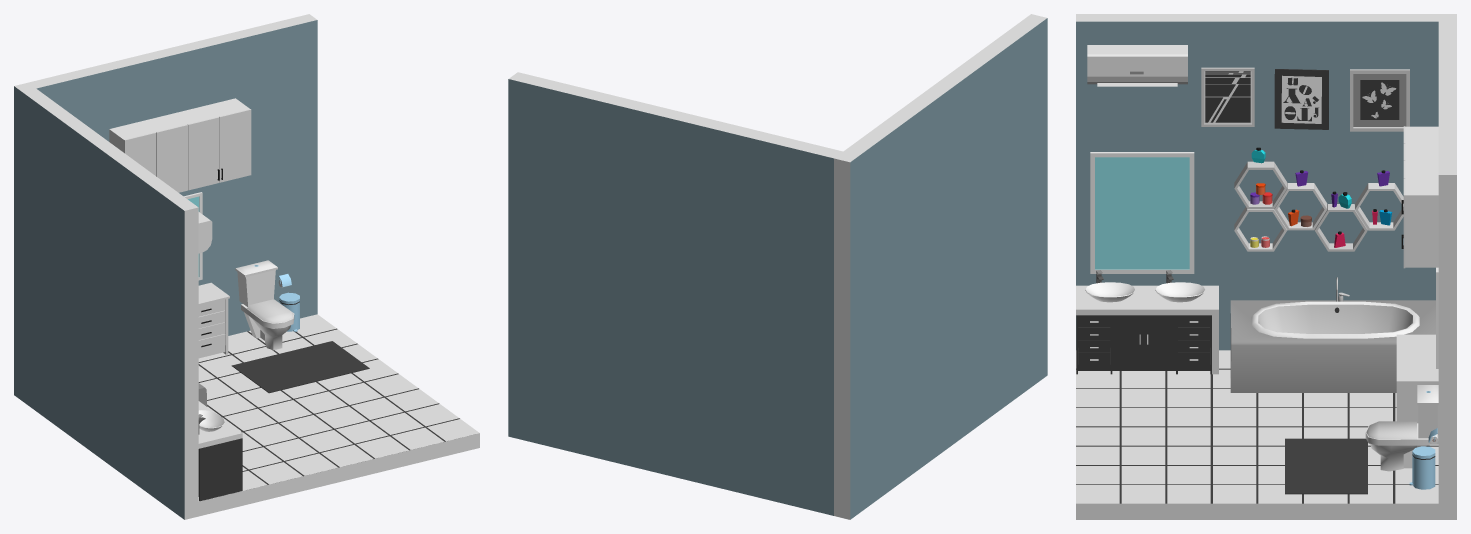
The model's file is room_6.glb.
3 views of the same model, side by side, from view 1: azimuth 30°, elevation 25°; view 2: azimuth 150°, elevation 25°; view 3: azimuth 270°, elevation 25° (orthographic). The views are drawn at different scales.
Visible parts, largest first — view 1: Walls_116.002, Walls_116.001, floor_014.001, kitchen_item_025.001, Walls_011.003, Walls_040.004, bathroom_item_027.001, bathroom_item_022.001, shelf_052.001, bathroom_item_018.001; view 2: Walls_116.001, Walls_116.002; view 3: Walls_116.002, floor_014.001, bathroom_item_023.001, picture_041.001, bathroom_item_027.001, Walls_011.003, Walls_116.001, kitchen_item_025.001, Walls_040.004, electronics_032.001, shelf_059.001, picture_016.001 (+5 smaller).
Boxes of the visible parts, left/top/right/bottom form: Walls_116.002: left=14, top=82, right=198, bottom=519; Walls_116.001: left=28, top=14, right=317, bottom=335; floor_014.001: left=198, top=314, right=479, bottom=501; kitchen_item_025.001: left=109, top=98, right=251, bottom=192; Walls_011.003: left=198, top=328, right=479, bottom=516; Walls_040.004: left=231, top=341, right=369, bottom=393; bathroom_item_027.001: left=198, top=401, right=242, bottom=501; bathroom_item_022.001: left=235, top=260, right=294, bottom=350; shelf_052.001: left=198, top=282, right=229, bottom=358; bathroom_item_018.001: left=278, top=274, right=299, bottom=331; Walls_116.001: left=508, top=72, right=842, bottom=515; Walls_116.002: left=834, top=14, right=1047, bottom=519; Walls_116.002: left=1076, top=14, right=1456, bottom=350; floor_014.001: left=1076, top=350, right=1438, bottom=503; bathroom_item_023.001: left=1230, top=277, right=1435, bottom=392; picture_041.001: left=1090, top=152, right=1194, bottom=273; bathroom_item_027.001: left=1076, top=270, right=1218, bottom=374; Walls_011.003: left=1076, top=368, right=1438, bottom=519; Walls_116.001: left=1438, top=21, right=1456, bottom=519; kitchen_item_025.001: left=1401, top=126, right=1438, bottom=268; Walls_040.004: left=1285, top=438, right=1367, bottom=494; electronics_032.001: left=1087, top=45, right=1187, bottom=86; shelf_059.001: left=1234, top=161, right=1403, bottom=251; picture_016.001: left=1350, top=69, right=1409, bottom=131.
Size of the model in its own units: 4.2 by 4.2 by 4.2.
1 material, 1 textured.
